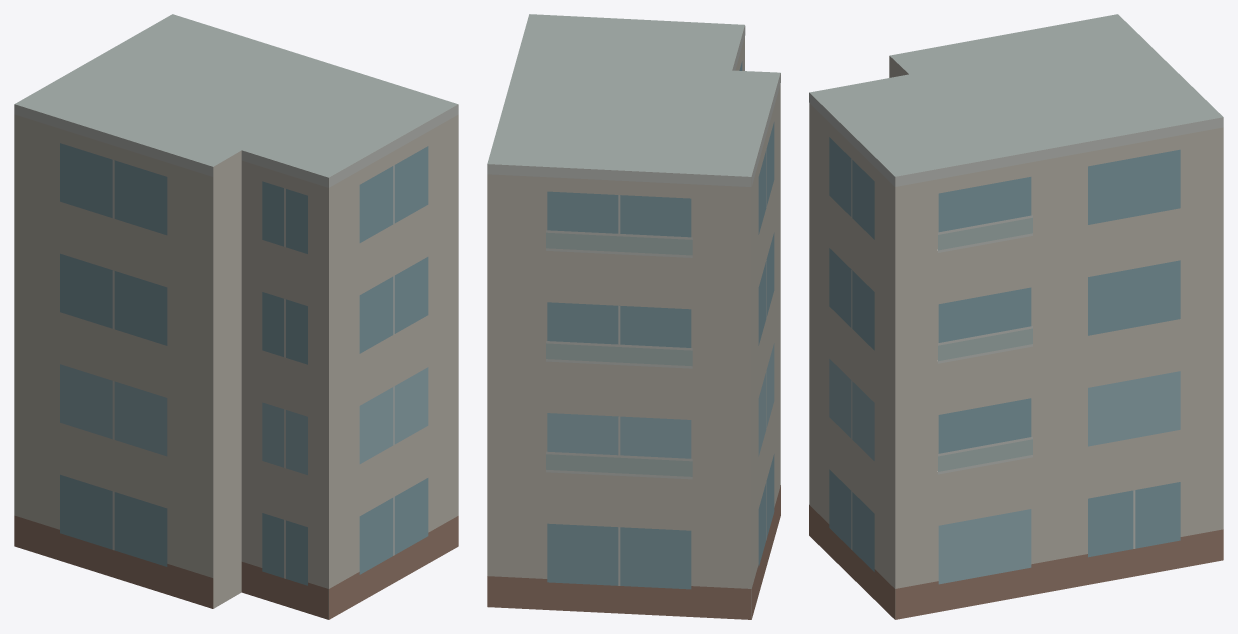
File: survey-upis-32717381.glb
3 renders of one model, left to right at view 1: azimuth 30°, elevation 25°; view 2: azimuth 150°, elevation 25°; view 3: azimuth 270°, elevation 25°, orthographic.
Parts seen in each view (by area): view 1: survey-upis-32717381.tmp; view 2: survey-upis-32717381.tmp; view 3: survey-upis-32717381.tmp.
Boxes of the visible parts, bbox=[...] form: survey-upis-32717381.tmp: bbox=[14, 14, 458, 619]; survey-upis-32717381.tmp: bbox=[487, 14, 780, 619]; survey-upis-32717381.tmp: bbox=[809, 14, 1223, 619].
Size of the model in its own units: 8.36 by 10.6 by 9.
